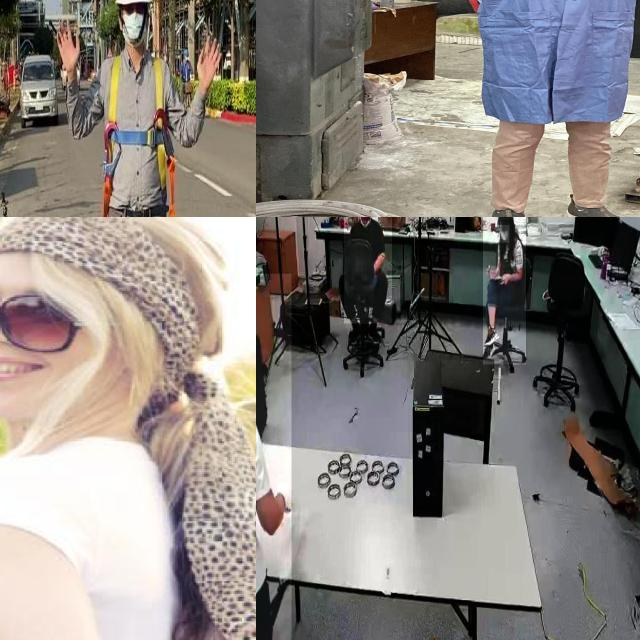Harness: (102, 56, 177, 217)
face_mask: (496, 225, 510, 243)
face_nomask: (0, 285, 71, 394), (358, 217, 372, 222)
glasses: (0, 266, 125, 341)
hand_noglove: (498, 270, 510, 286), (490, 266, 500, 279)
head_nohelmet: (0, 217, 208, 282)
person: (0, 217, 250, 640), (389, 0, 640, 217), (256, 273, 292, 640), (483, 217, 526, 365), (343, 217, 392, 324)
shoes: (548, 196, 640, 217), (470, 196, 538, 217), (365, 318, 381, 350), (482, 320, 500, 348), (347, 320, 363, 347)
